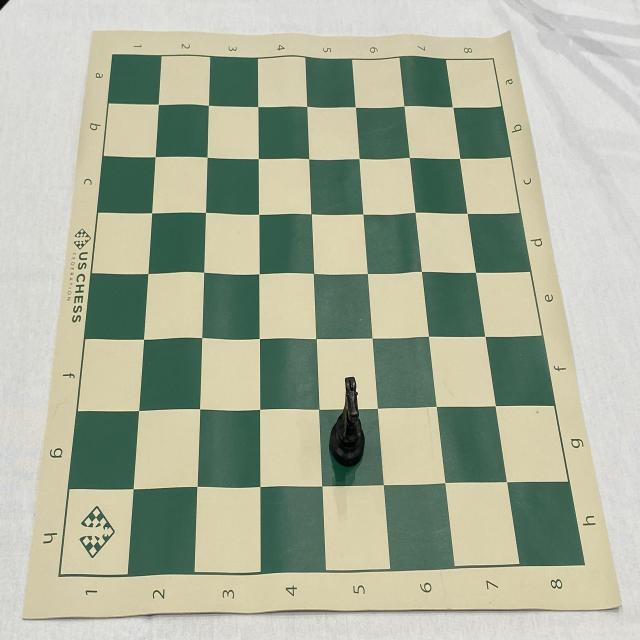black-knight: (328, 378, 366, 469)
